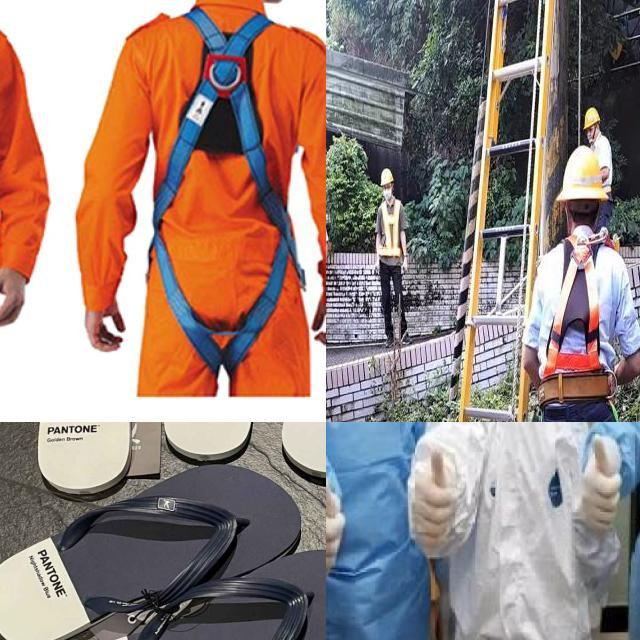Harness: (152, 6, 299, 373), (535, 228, 620, 422)
Sandals: (0, 450, 326, 640), (3, 422, 279, 490)
hand_glove: (411, 448, 457, 549), (582, 432, 620, 530), (326, 472, 343, 580)
person: (399, 422, 610, 640), (326, 422, 455, 640)
